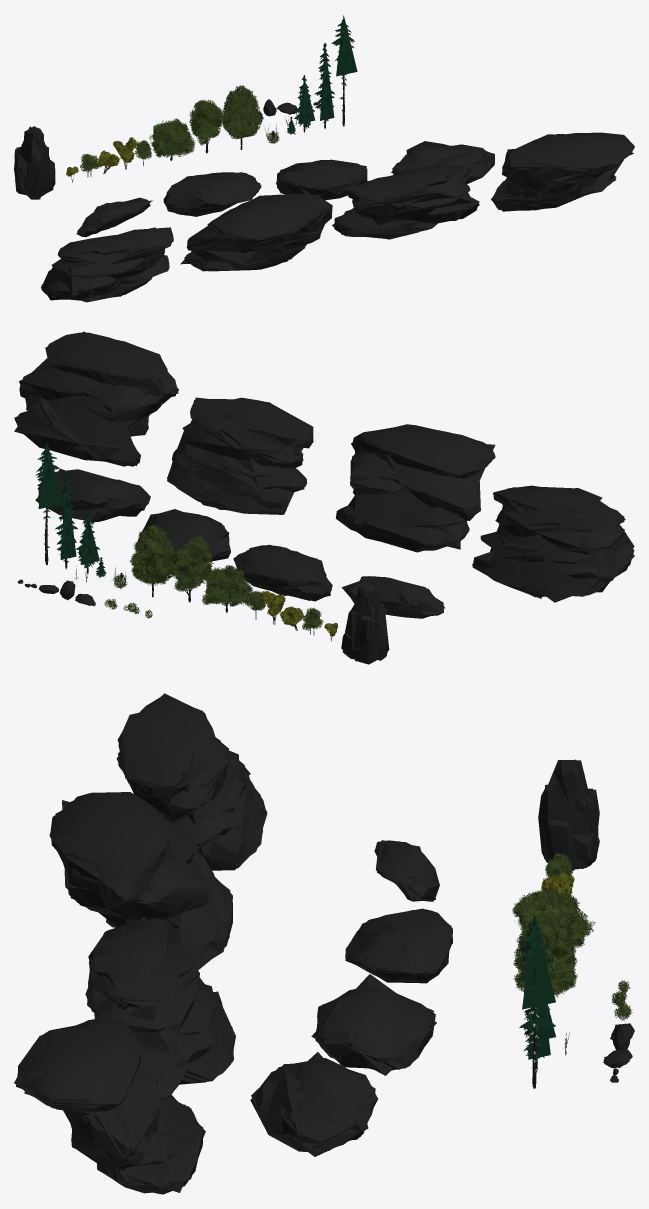
The model's file is nature_vegetation_pack.glb.
The picture shows the model from 3 angles, top to bottom: view 1: azimuth 30°, elevation 25°; view 2: azimuth 150°, elevation 25°; view 3: azimuth 270°, elevation 25°; orthographic projection. The views are drawn at different scales.
Visible parts, largest first — view 1: Cliff_a_LOD0_35, Cliff_c_LOD0_38, Cliff_b_LOD0_36, Cliff_d_LOD0_39, Cliff_c_LOD1_68, Cliff_a_LOD1_65, Cliff_b_LOD1_66, Cliff_b_LOD2_93, Cliff_d_LOD2_96, Cliff_d_LOD1_69, Cliff_c_LOD2_95, Cliff_c_LOD3_123 (+35 smaller); view 2: Cliff_b_LOD0_36, Cliff_d_LOD0_39, Cliff_a_LOD0_35, Cliff_c_LOD0_38, Cliff_a_LOD1_65, Cliff_c_LOD1_68, Cliff_d_LOD2_96, Cliff_b_LOD2_93, Cliff_c_LOD2_95, Cliff_a_LOD2_92, Cliff_a_LOD4_144, Cliff_d_LOD1_69 (+40 smaller); view 3: Cliff_a_LOD0_35, Cliff_c_LOD0_38, Cliff_b_LOD0_36, Cliff_d_LOD0_39, Cliff_a_LOD1_65, Cliff_c_LOD1_68, Cliff_d_LOD2_96, Cliff_a_LOD2_92, Cliff_c_LOD2_95, Cliff_a_LOD3_120, Cliff_d_LOD1_69, Cliff_b_LOD2_93 (+35 smaller).
Part boxes in pixels (box(x1,y1,x2,y2)): Cliff_a_LOD0_35: box(492, 132, 633, 210); Cliff_c_LOD0_38: box(184, 194, 332, 271); Cliff_b_LOD0_36: box(334, 164, 479, 238); Cliff_d_LOD0_39: box(41, 227, 173, 302); Cliff_c_LOD1_68: box(187, 195, 331, 271); Cliff_a_LOD1_65: box(497, 132, 634, 210); Cliff_b_LOD1_66: box(335, 164, 478, 236); Cliff_b_LOD2_93: box(332, 164, 478, 235); Cliff_d_LOD2_96: box(41, 230, 172, 300); Cliff_d_LOD1_69: box(42, 227, 173, 301); Cliff_c_LOD2_95: box(188, 193, 331, 271); Cliff_c_LOD3_123: box(184, 193, 328, 270); Cliff_b_LOD0_36: box(172, 397, 313, 514); Cliff_d_LOD0_39: box(474, 486, 633, 598); Cliff_a_LOD0_35: box(14, 332, 175, 466); Cliff_c_LOD0_38: box(337, 424, 494, 550); Cliff_a_LOD1_65: box(16, 335, 175, 465); Cliff_c_LOD1_68: box(335, 429, 495, 550); Cliff_d_LOD2_96: box(472, 487, 634, 596); Cliff_b_LOD2_93: box(167, 397, 313, 512); Cliff_c_LOD2_95: box(342, 425, 494, 551); Cliff_a_LOD2_92: box(20, 332, 178, 465); Cliff_a_LOD4_144: box(14, 331, 165, 459); Cliff_d_LOD1_69: box(475, 485, 632, 596); Cliff_a_LOD0_35: box(16, 1017, 202, 1193); Cliff_c_LOD0_38: box(50, 792, 232, 969); Cliff_b_LOD0_36: box(85, 918, 234, 1082); Cliff_d_LOD0_39: box(117, 697, 265, 870); Cliff_a_LOD1_65: box(19, 1017, 203, 1193); Cliff_c_LOD1_68: box(51, 792, 232, 969); Cliff_d_LOD2_96: box(117, 693, 263, 870); Cliff_a_LOD2_92: box(18, 1019, 199, 1194); Cliff_c_LOD2_95: box(49, 795, 230, 969); Cliff_a_LOD3_120: box(14, 1021, 189, 1193); Cliff_d_LOD1_69: box(117, 702, 262, 870); Cliff_b_LOD2_93: box(87, 922, 235, 1084).
Size of what is drawn, in the model's own units: 172 by 36.62 by 105.
Materials: 9 (4 with a texture image).
